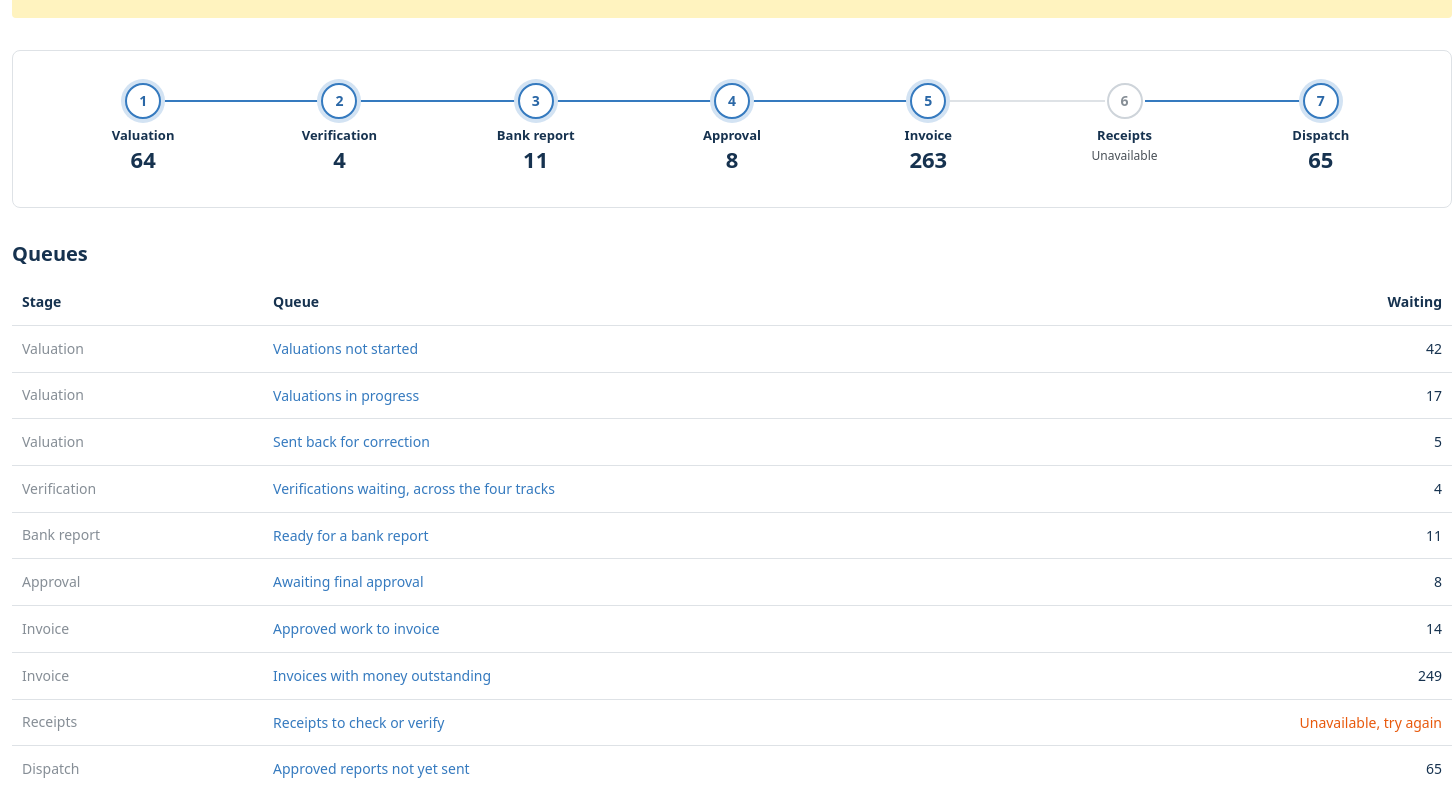
Test: My work when requests fail › marks only the queue that failed, and retries it
This screenshot has width=1452, height=792.
(page scrolled)
Check: the text "42" is shown, box 1426,339 -> 1442,358
Click the button with aria-label "Receipts to check or verify: unavailable, try again". click: (1371, 723)
box: 1300,712 -> 1442,733
(page scrolled)
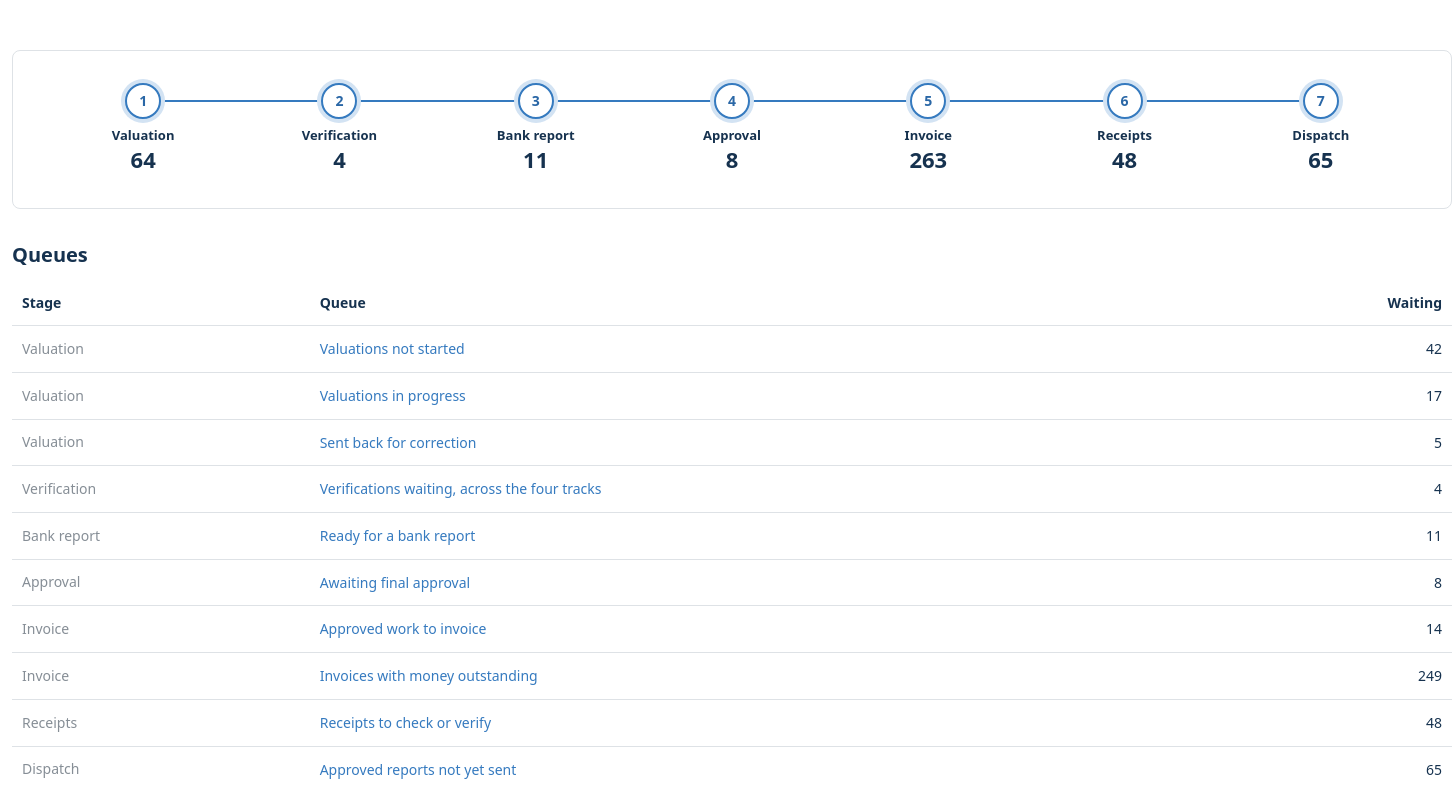
Check: the row "Receipts Receipts to check or verify 48" is shown, box 12,699 -> 1451,746
